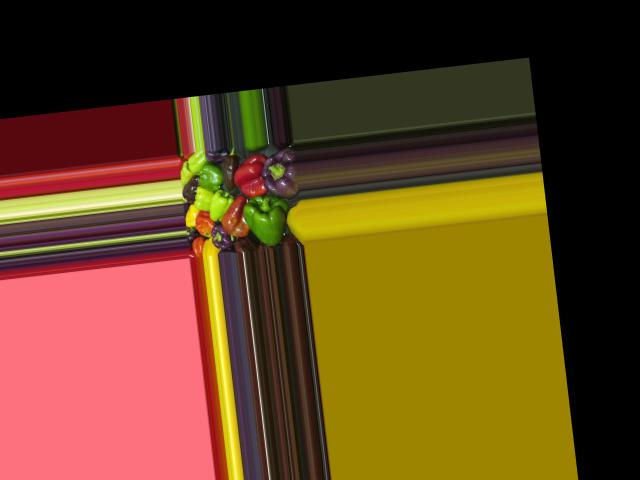bell_pepper: (206, 222, 234, 253)
